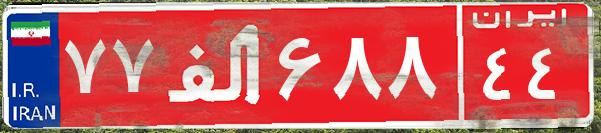4: (475, 38, 525, 113), (525, 38, 570, 115)
6: (273, 28, 330, 110)
7: (57, 26, 110, 107), (110, 28, 158, 105)
8: (385, 28, 445, 110), (330, 28, 385, 110)
الف: (158, 15, 273, 115)
